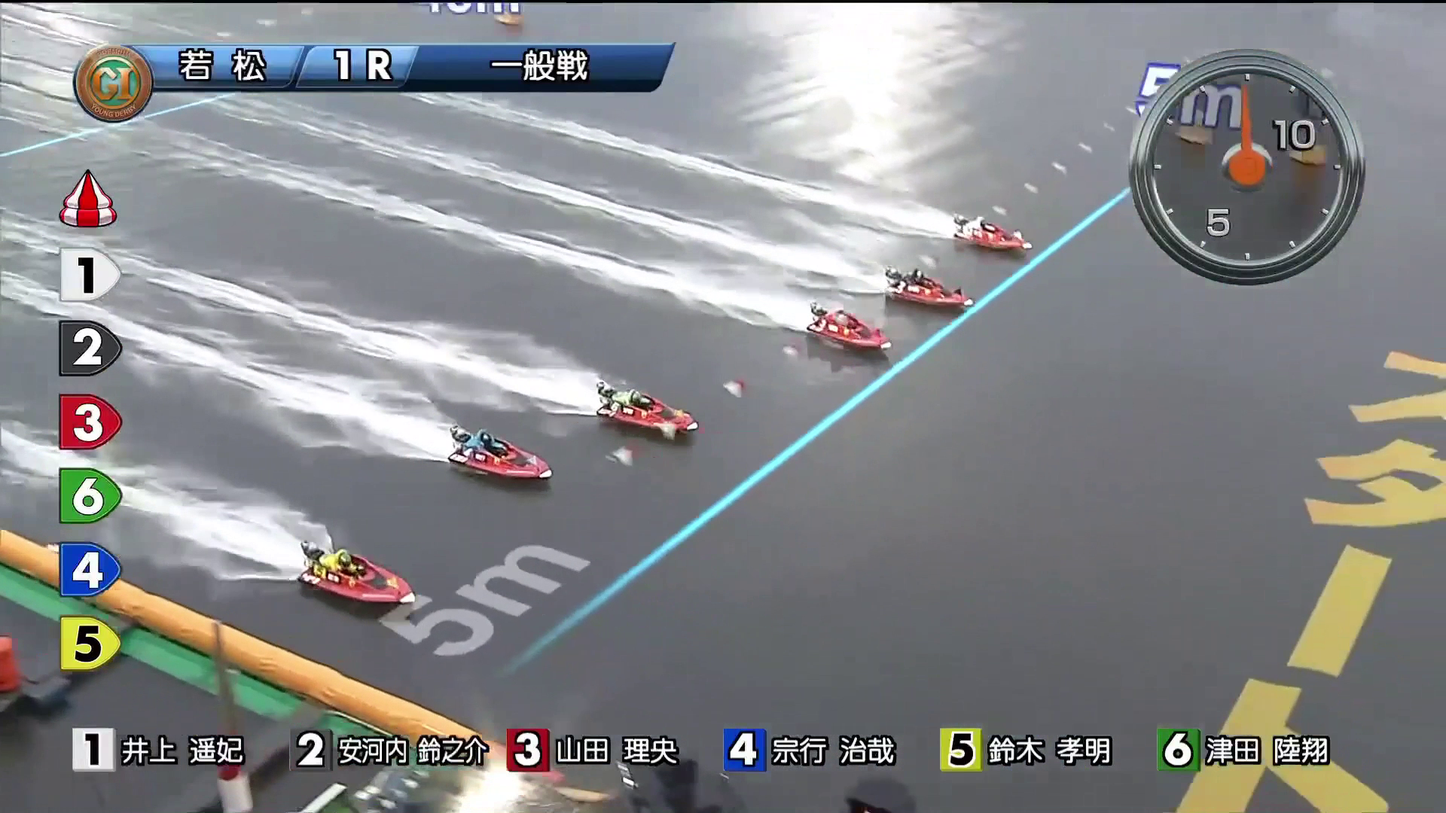１号艇: (907, 211, 979, 258)
２号艇: (888, 266, 950, 304)
３号艇: (812, 305, 867, 346)
４号艇: (625, 385, 689, 428)
５号艇: (492, 452, 561, 490)
６号艇: (392, 583, 457, 629)
